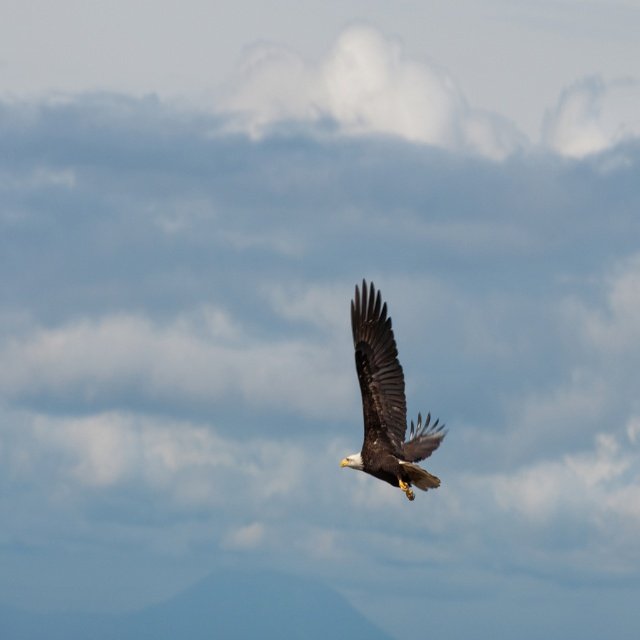Eagle: (340, 274, 452, 506)
